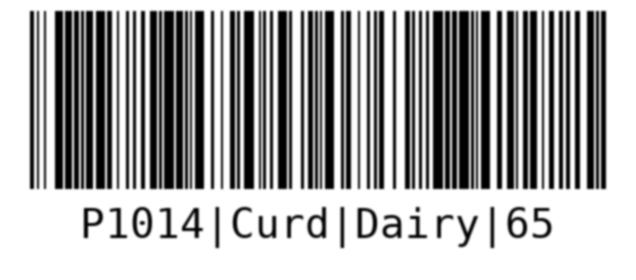milk: (22, 4, 612, 268)
